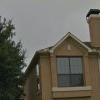Chimney: (79, 6, 100, 44)
